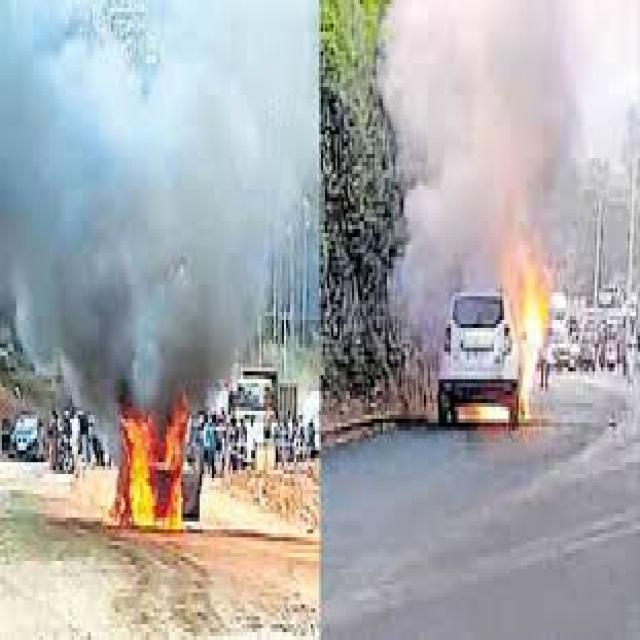fire: (118, 411, 190, 529), (516, 264, 552, 418)
smoke: (2, 4, 317, 411), (379, 4, 574, 332)
